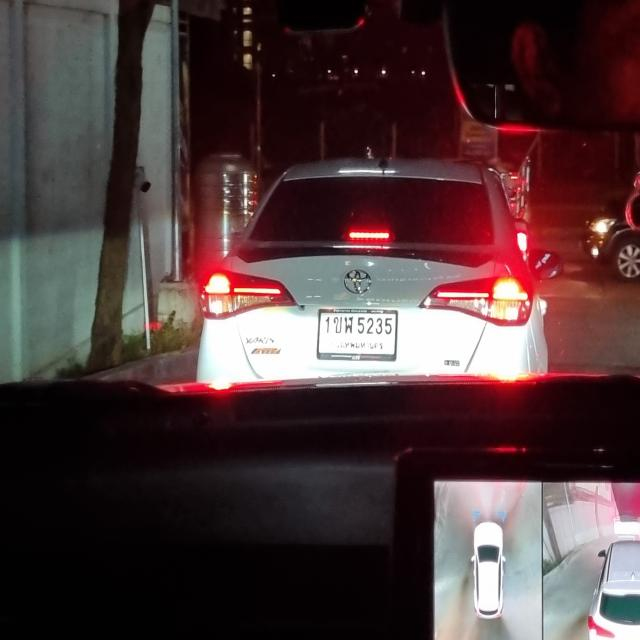license_plate: (315, 306, 398, 363)
